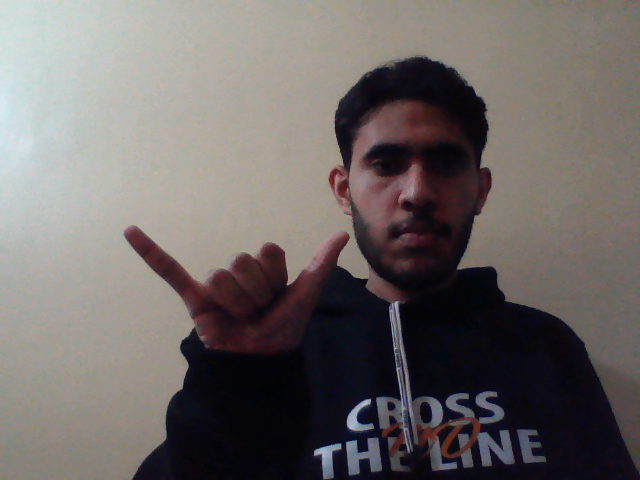Y: (117, 217, 354, 365)
